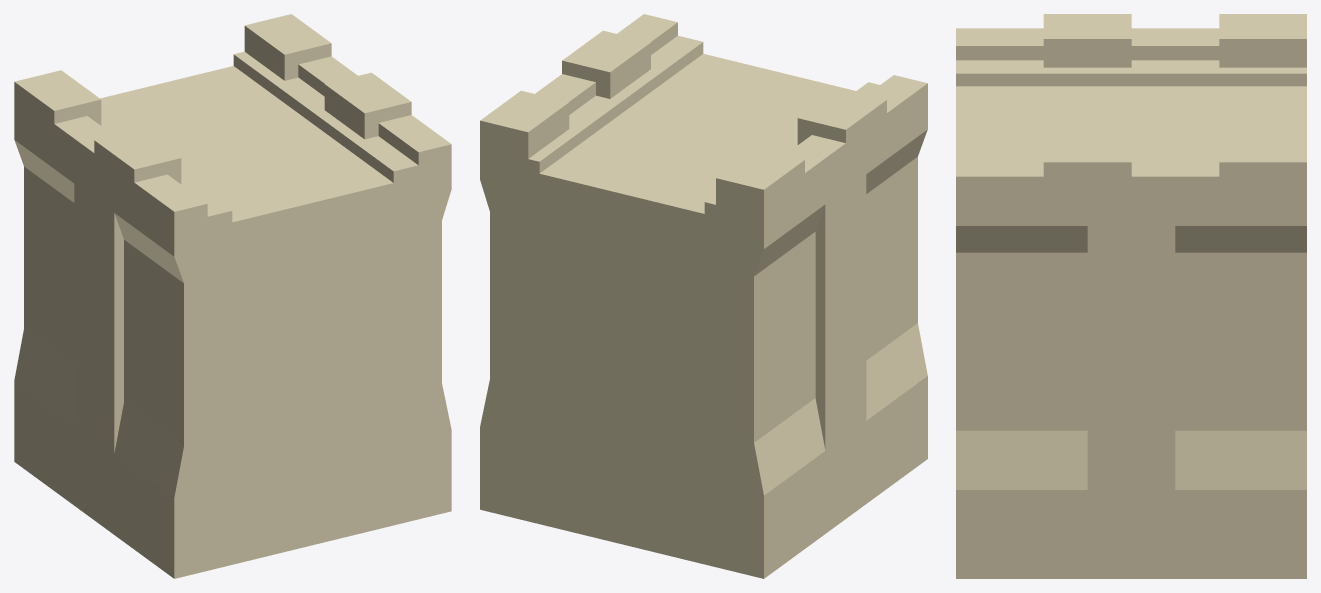
Rendered from wallpillar.glb.
3 renders of one model, left to right at view 1: azimuth 30°, elevation 25°; view 2: azimuth 150°, elevation 25°; view 3: azimuth 270°, elevation 25°, orthographic. The views are drawn at different scales.
Visible parts, largest first — view 1: wallPillar; view 2: wallPillar; view 3: wallPillar.
Part boxes in pixels (x1=…): wallPillar: x1=14, y1=14, x2=451, y2=578; wallPillar: x1=480, y1=14, x2=927, y2=578; wallPillar: x1=956, y1=14, x2=1306, y2=578.
Bounding box in the file's own units: 10 × 13.1 × 10.
